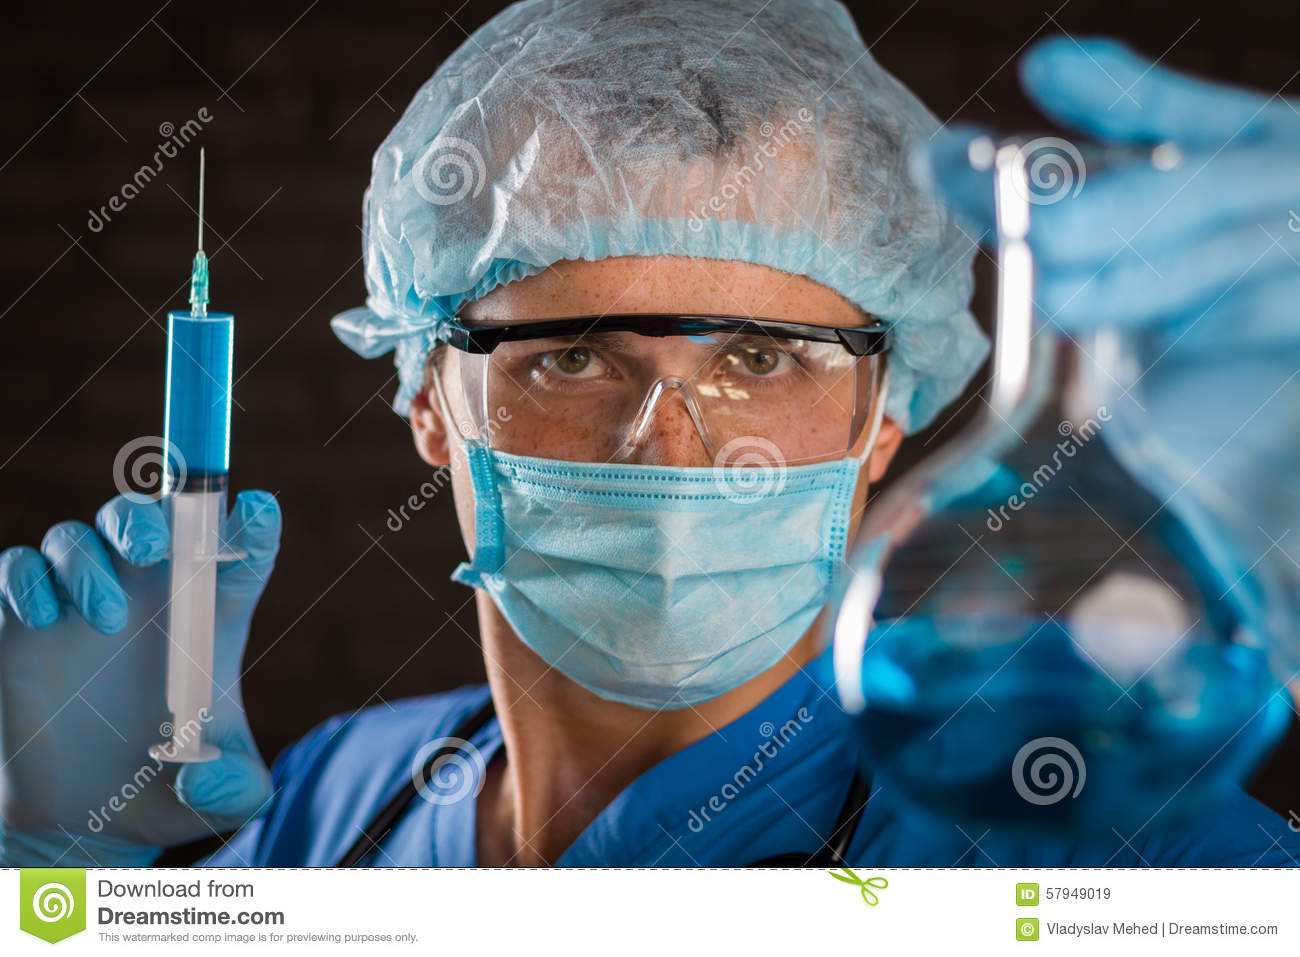mask: (457, 443, 857, 719)
